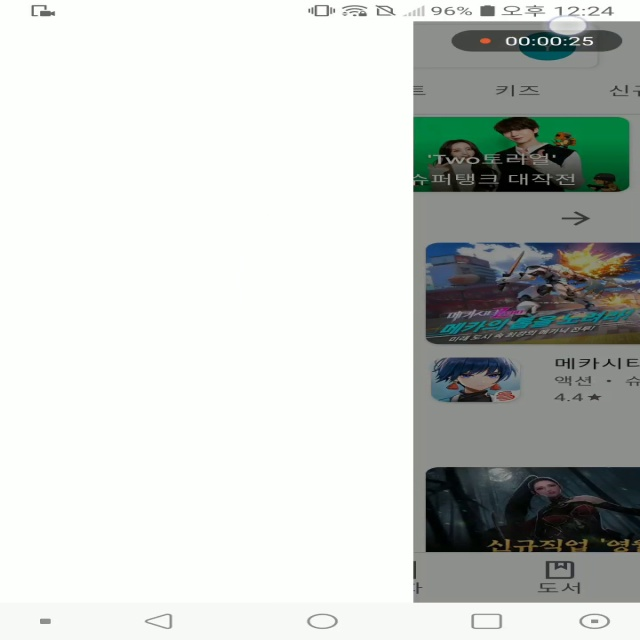Cursor: (545, 14, 590, 37)
